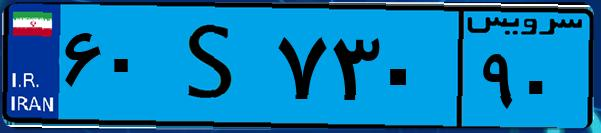0: (385, 28, 445, 110), (525, 38, 570, 115), (110, 28, 158, 98)
3: (330, 28, 385, 110)
6: (57, 26, 110, 100)
7: (270, 28, 330, 110)
9: (475, 38, 525, 113)
S: (158, 12, 270, 120)
